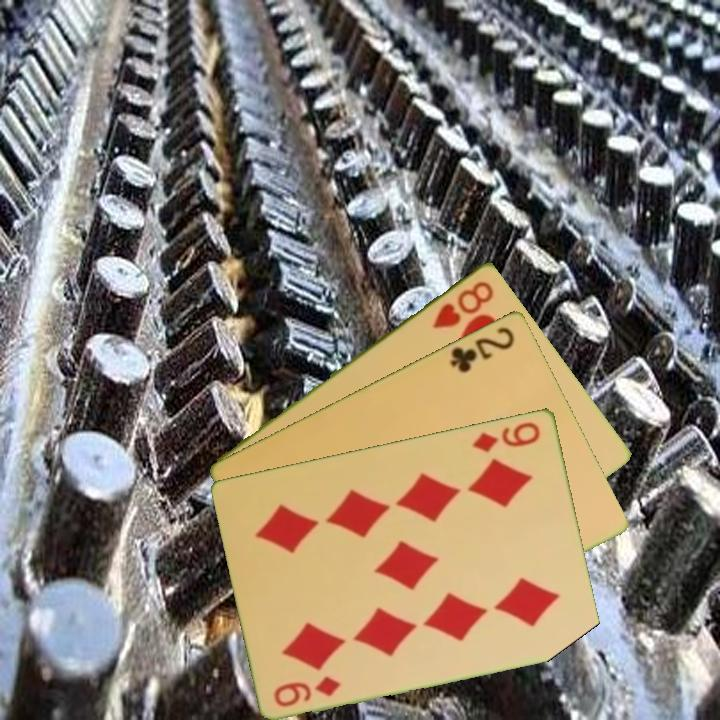2c: (446, 322, 518, 375)
8h: (429, 276, 497, 331)
9d: (270, 672, 344, 710), (469, 418, 544, 455)
